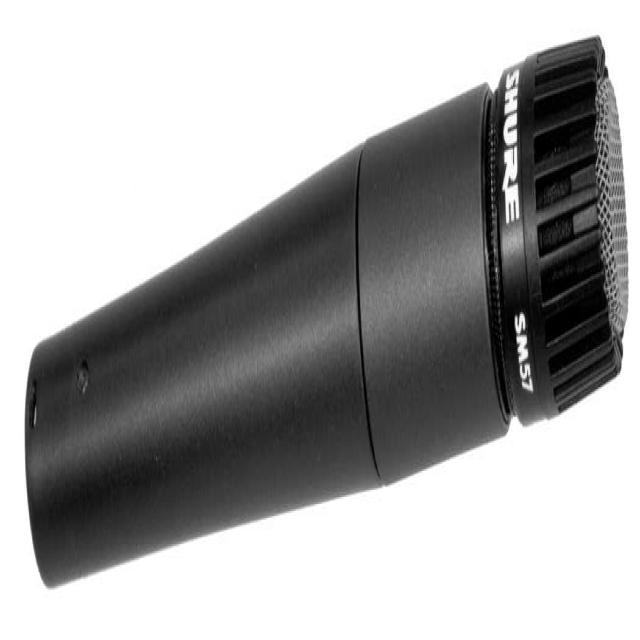microphone: (38, 37, 626, 561)
